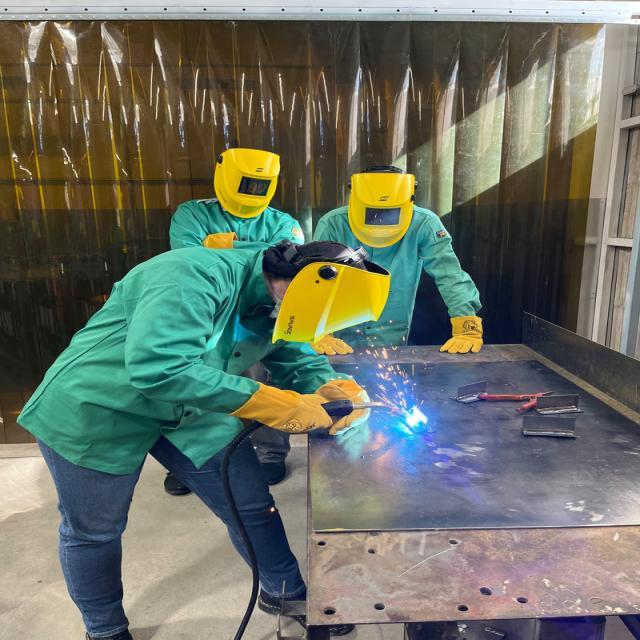with_helmet: (273, 262, 390, 344), (347, 172, 413, 248), (214, 148, 282, 220)
